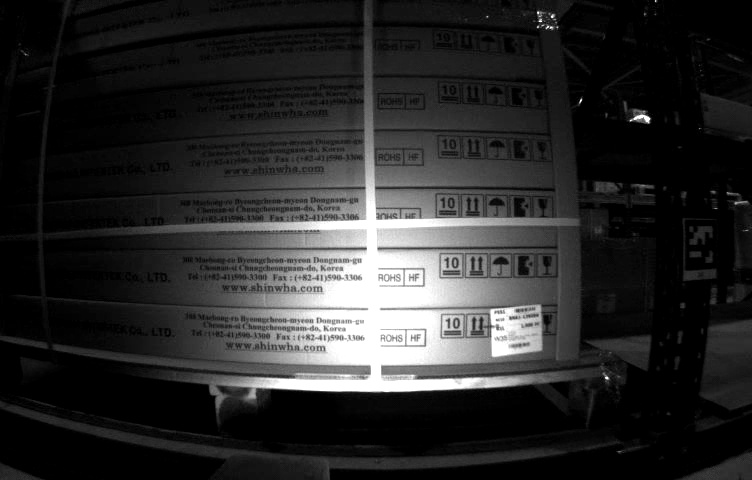True Barcode: (490, 303, 543, 355)
